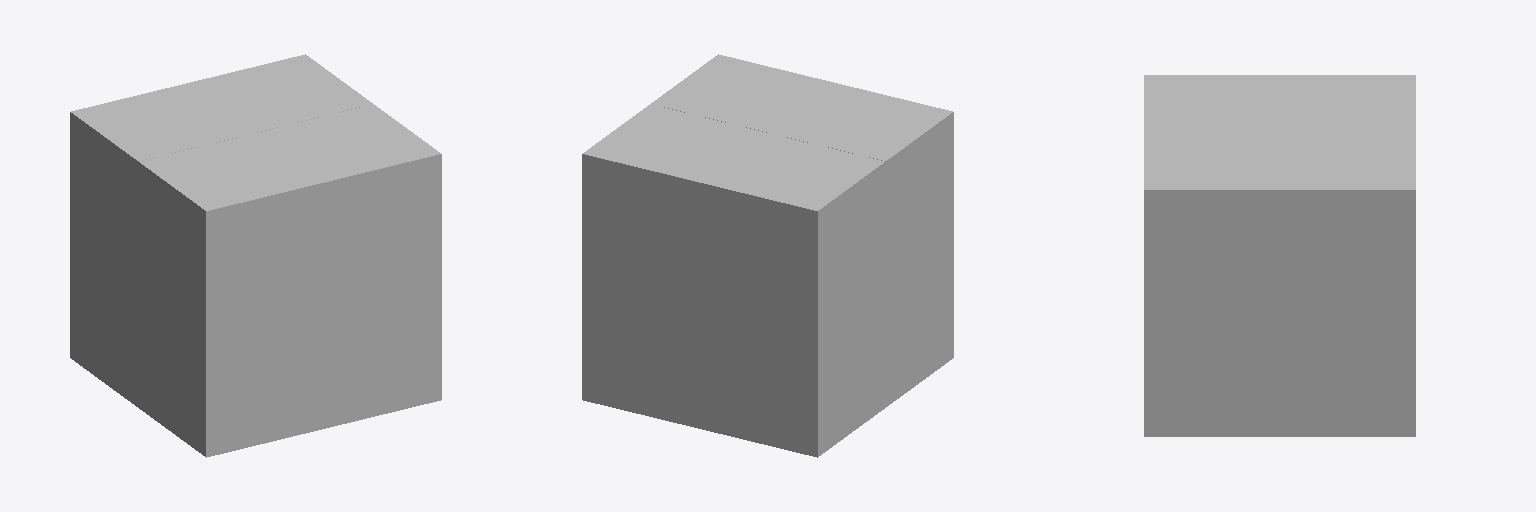
The model's file is player_pawn.obj.
The picture shows the model from 3 angles: view 1: azimuth 30°, elevation 25°; view 2: azimuth 150°, elevation 25°; view 3: azimuth 270°, elevation 25°; orthographic projection.
Visible parts, largest first — view 1: Cube; view 2: Cube; view 3: Cube.
Boxes of the visible parts, <box> form: Cube: <box>70,54,441,457</box>; Cube: <box>582,54,953,457</box>; Cube: <box>1144,75,1415,436</box>.
Bounding box in the file's own units: 200 × 200 × 200.